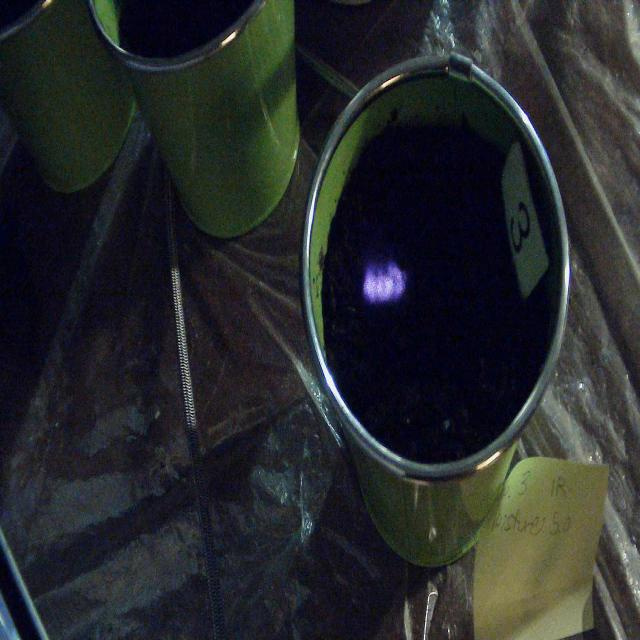soil-moisture-5.0: (362, 262, 405, 306)
